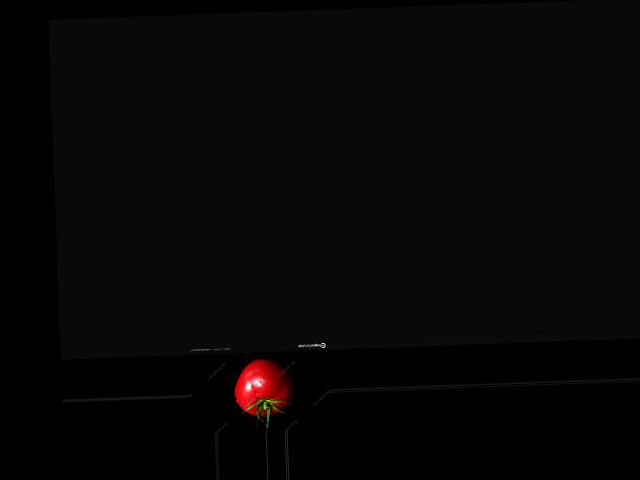tomato: (233, 357, 295, 417)
